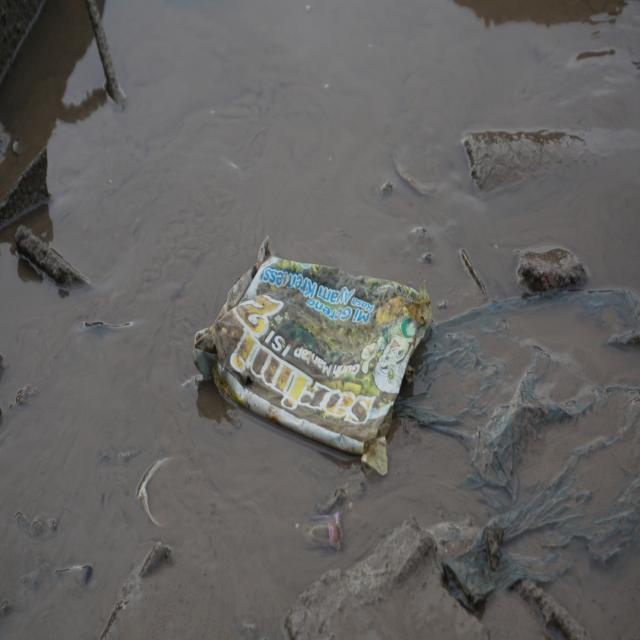Bungkus Makanan: (193, 234, 429, 464)
Kantong Plastik: (402, 276, 640, 627)
